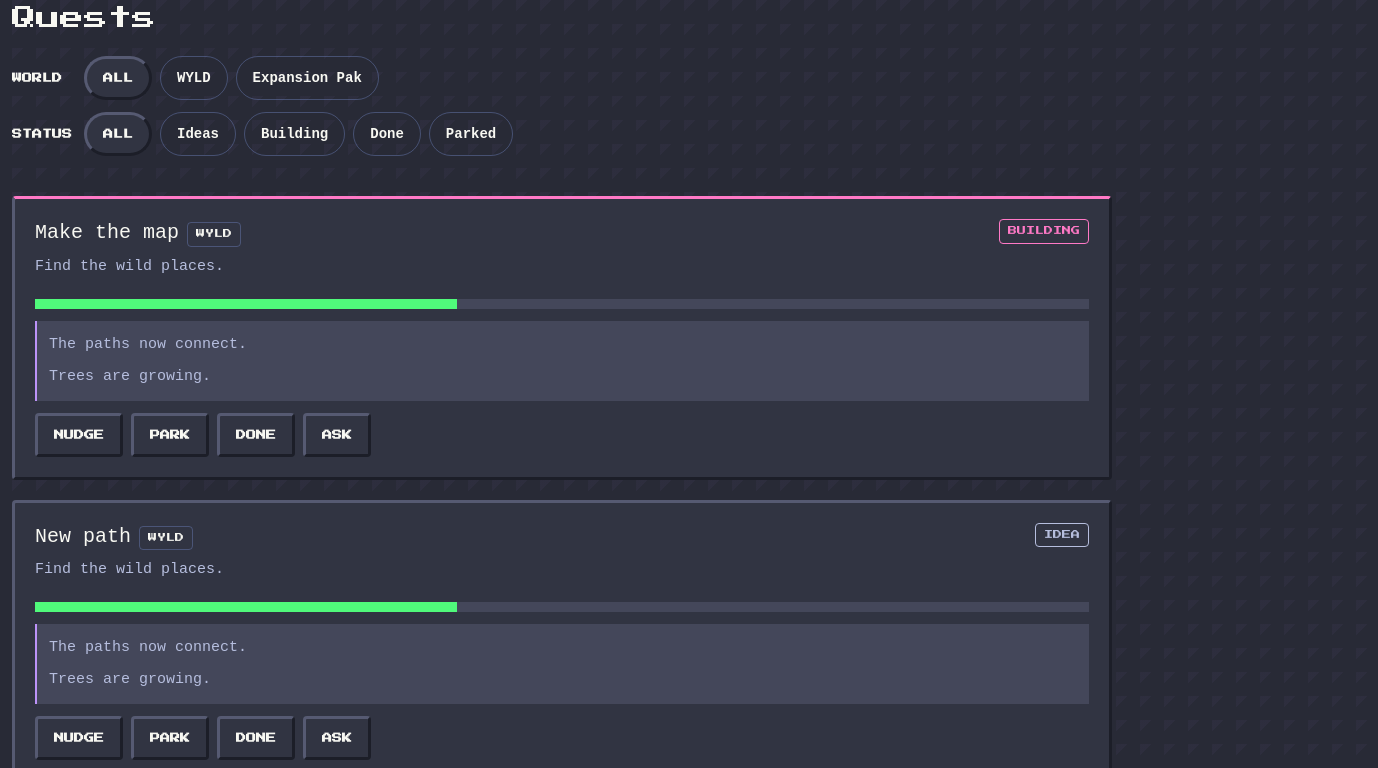
Test case: Quests › renders world tags and combines world and status filters
This screenshot has width=1378, height=768.
expect the button "WYLD" is shown: met, box [160,56,228,100]
Click the button "Ideas".
click(198, 134)  # box [160,112,236,156]
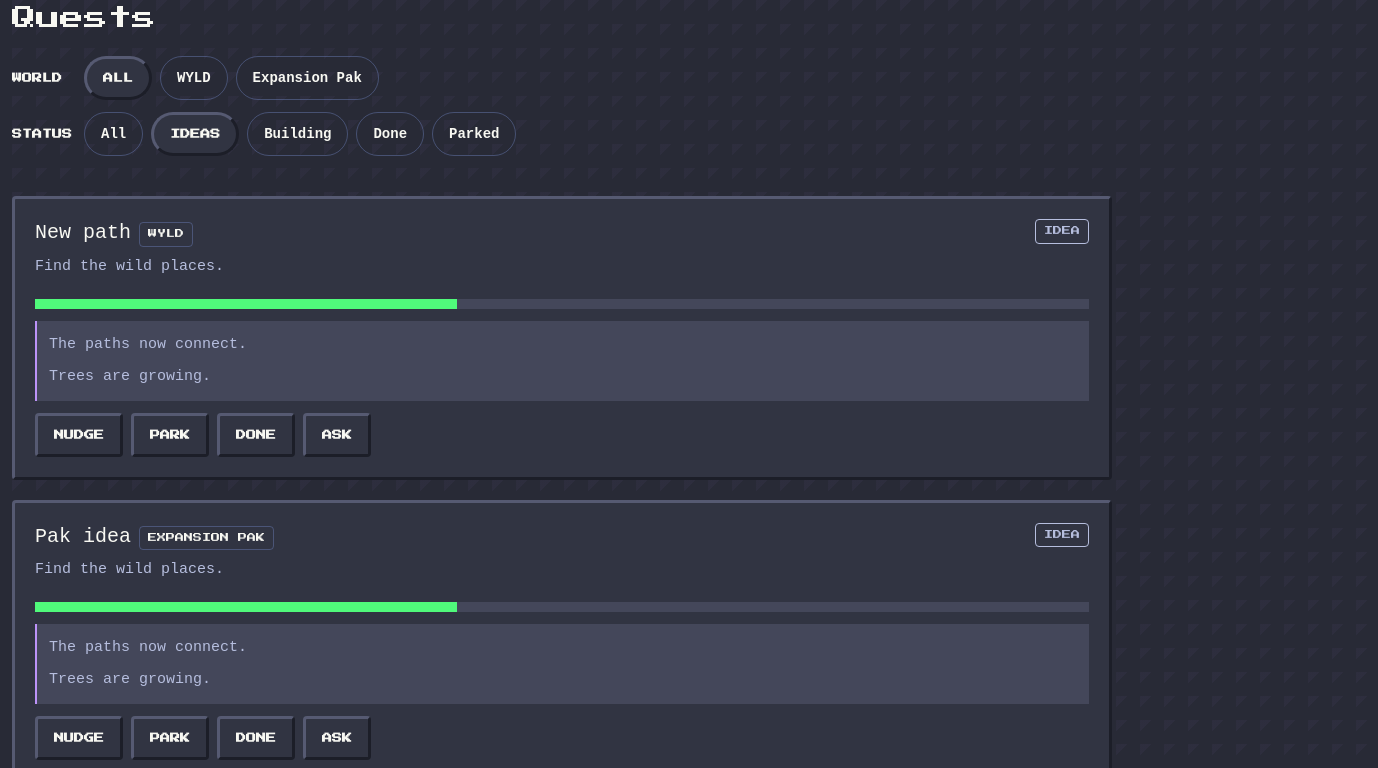
expect the heading "New path" is shown: met, box [35,219,131,246]
expect the heading "Make the map" is gone: met
Click the button "Expansion Pak".
click(307, 78)  # box [236,56,379,100]
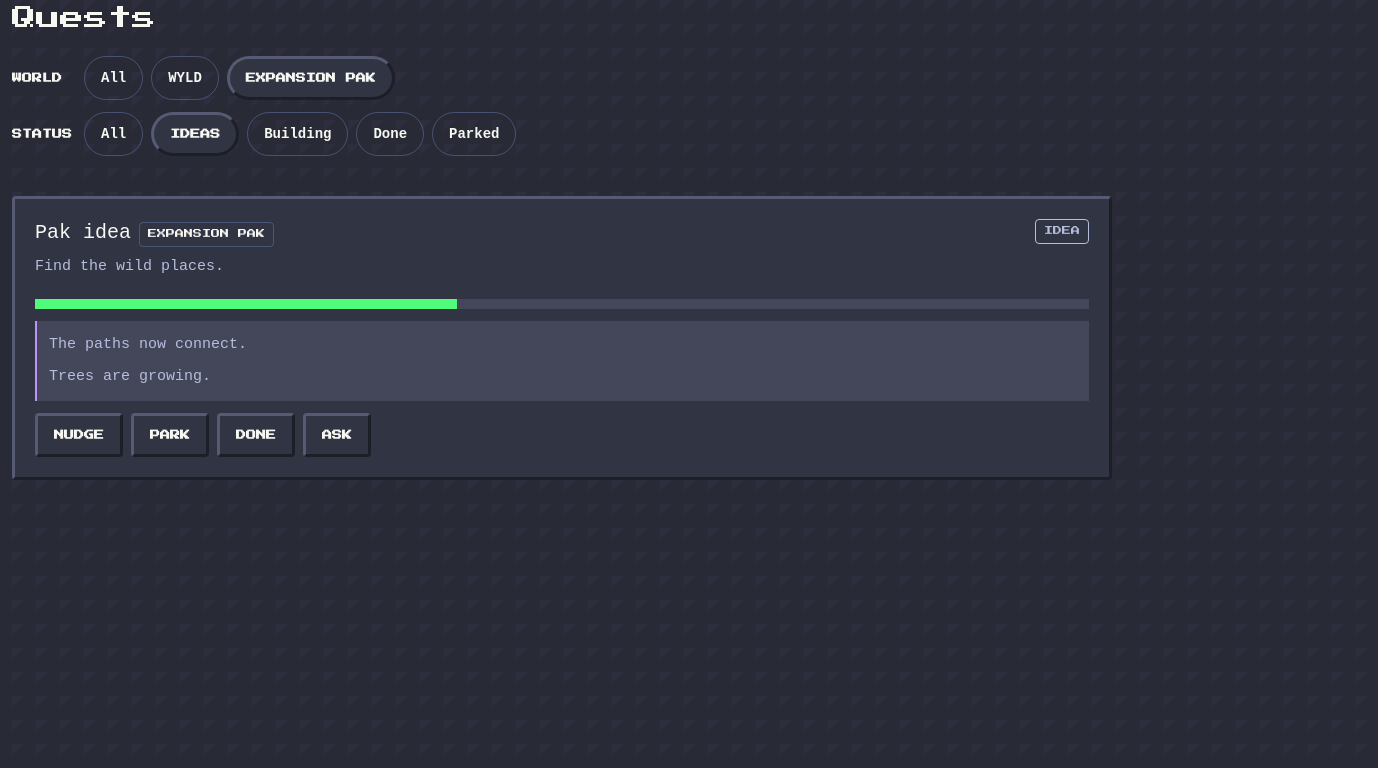
expect the heading "Pak idea" is shown: met, box [35,219,131,246]
expect the heading "New path" is gone: met
